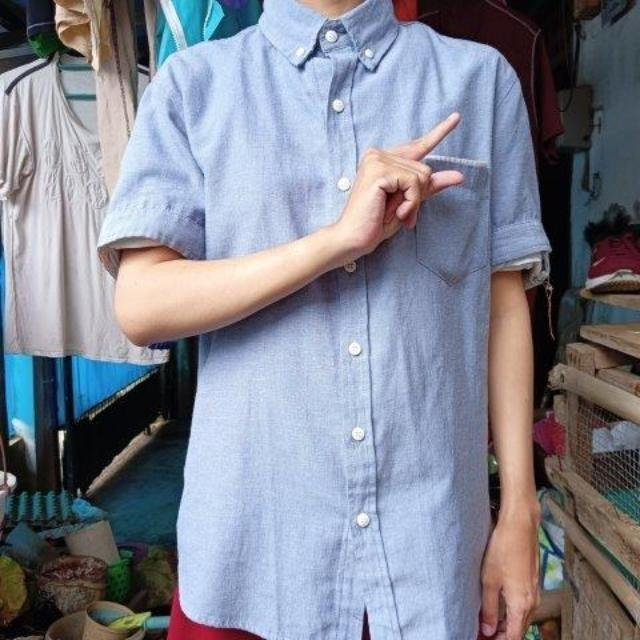R: (337, 103, 469, 257)
